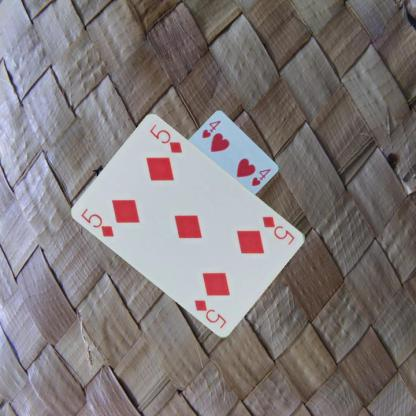4h: (199, 118, 222, 140)
5d: (78, 206, 116, 238), (260, 213, 296, 246)
